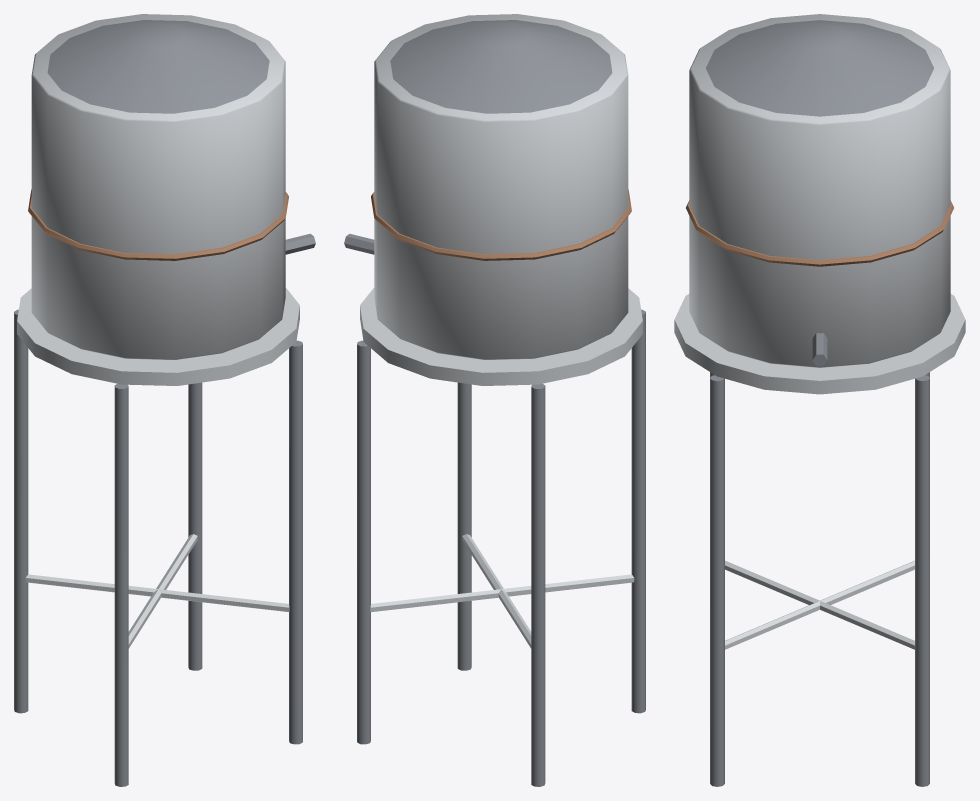
File: WaterTank.fbx
3 views of the same model, side by side, from view 1: azimuth 30°, elevation 25°; view 2: azimuth 150°, elevation 25°; view 3: azimuth 270°, elevation 25° (orthographic).
Visible parts, largest first — view 1: LOD0; view 2: LOD0; view 3: LOD0.
Part boxes in pixels (left/top/right/bottom): LOD0: left=14, top=14, right=315, bottom=786; LOD0: left=344, top=14, right=645, bottom=786; LOD0: left=674, top=14, right=965, bottom=786.
Size of what is drawn, in the model's own units: 175 by 416 by 156.
